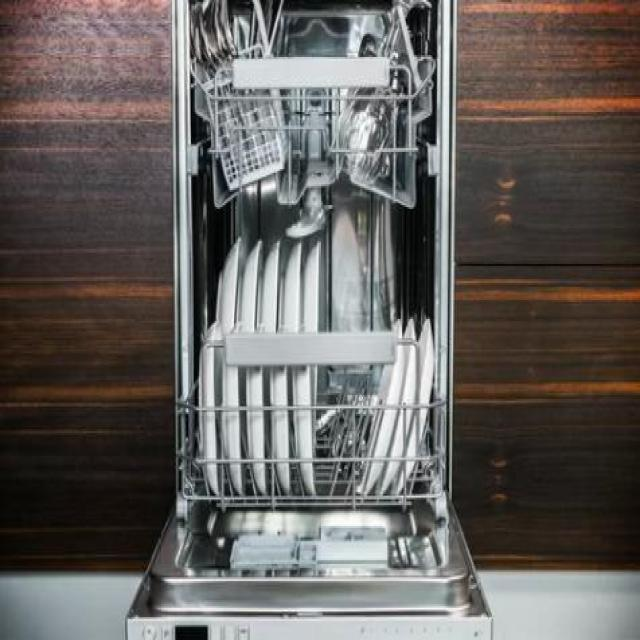dishwasher: (126, 0, 492, 638)
